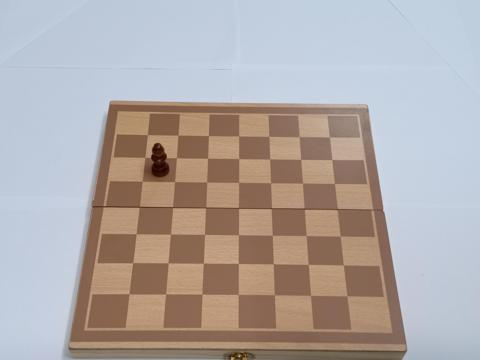xcorner: (137, 178, 147, 188), (203, 132, 213, 142), (294, 133, 304, 143), (306, 292, 316, 302), (142, 132, 152, 141), (140, 154, 149, 164), (125, 290, 135, 299), (171, 155, 181, 164), (168, 204, 177, 214), (166, 231, 175, 241), (202, 155, 212, 164), (202, 179, 211, 189), (199, 260, 208, 270), (234, 155, 243, 165), (234, 232, 243, 242), (234, 291, 243, 301), (269, 261, 278, 271), (296, 156, 305, 166), (298, 180, 307, 190), (327, 157, 337, 166), (333, 206, 342, 216), (336, 233, 345, 243), (342, 293, 352, 302), (135, 204, 144, 213), (132, 231, 141, 240), (129, 260, 138, 269), (173, 132, 182, 141), (170, 179, 179, 188), (164, 260, 173, 269), (162, 291, 171, 300), (201, 205, 210, 214), (200, 232, 209, 241), (198, 291, 207, 300), (234, 133, 243, 142), (234, 180, 243, 189), (234, 205, 243, 214), (234, 261, 243, 270), (264, 133, 273, 142), (265, 156, 274, 165), (266, 180, 275, 189), (267, 206, 276, 215), (268, 233, 277, 242), (270, 292, 279, 301), (300, 206, 309, 215), (302, 233, 311, 242), (304, 262, 313, 271), (325, 134, 334, 143), (330, 181, 339, 190), (339, 262, 348, 271)
